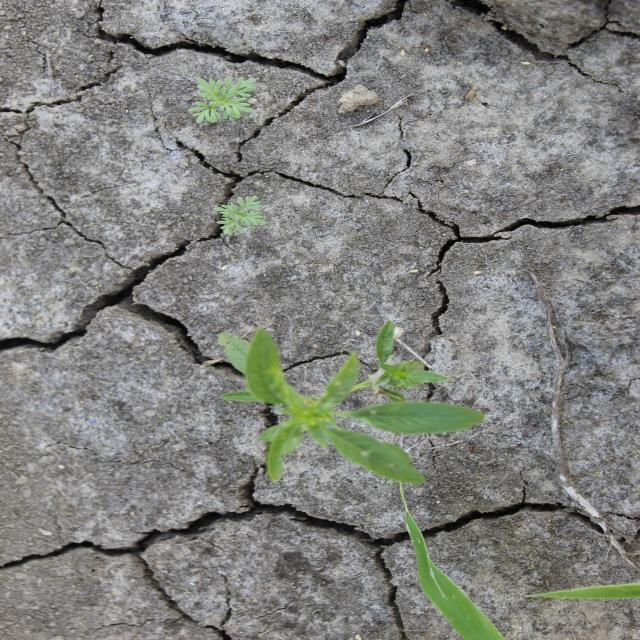Ragweed: (186, 74, 260, 126), (212, 193, 269, 237)
Waterhemp: (216, 319, 487, 487)
